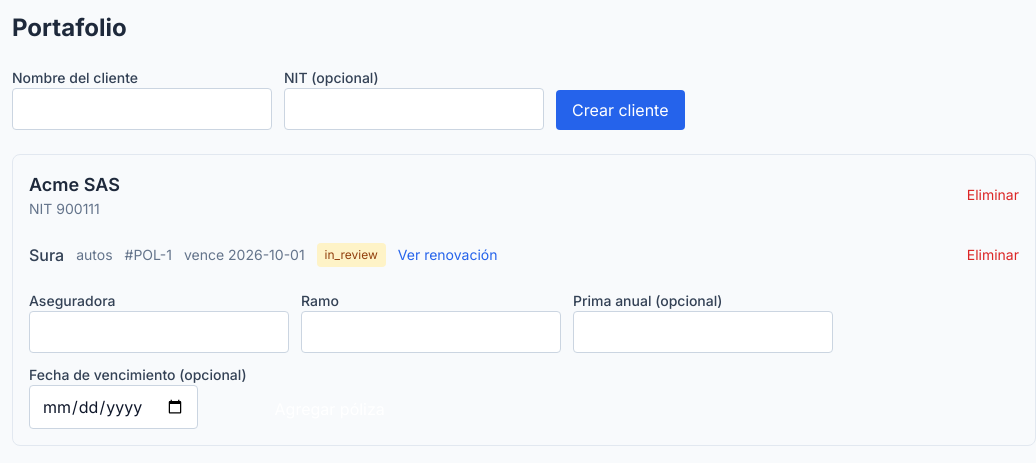
Test: Portfolio page › deletes a policy after confirmation
Expected: the text "Sura" is shown, x1=29 y1=243 x2=64 y2=267
Click the button with aria-label "eliminar póliza POL-1" at (993, 255), box x1=967 y1=245 x2=1019 y2=265
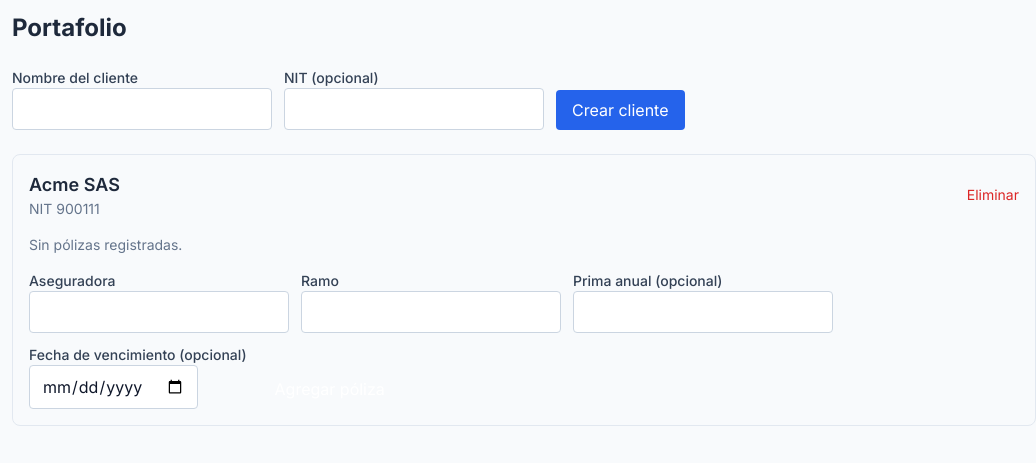
Expected: the text "Sura" is gone
